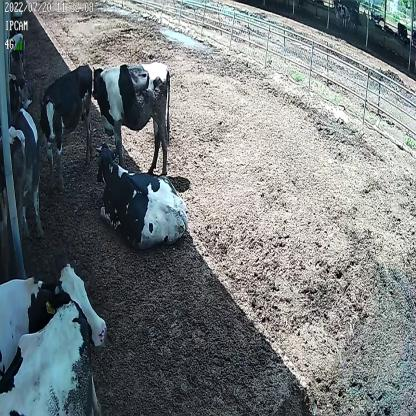cow: (92, 137, 191, 251), (91, 54, 173, 172), (39, 62, 93, 190)
